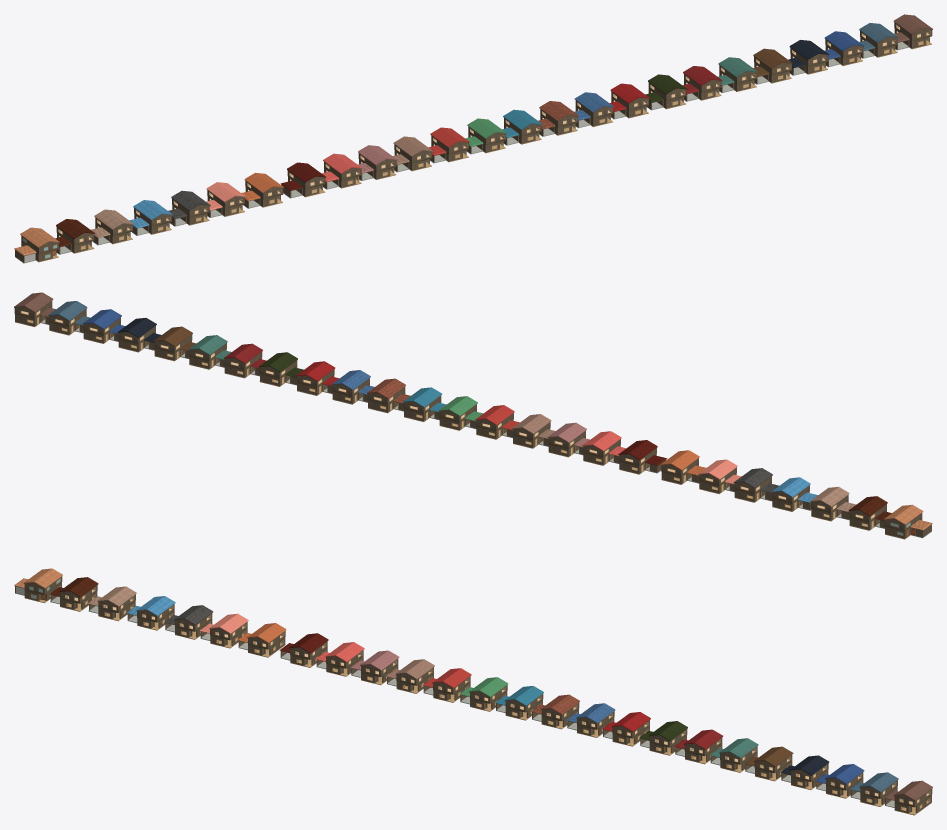
File: house_007_01_V3.fbx
3 renders of one model, top to bottom at view 1: azimuth 30°, elevation 25°; view 2: azimuth 150°, elevation 25°; view 3: azimuth 330°, elevation 25°, orthographic.
Visible parts, largest first — view 1: House_007_V3_8, House_007_V3_4, House_007_V3_3, House_007_V3_7, House_007_V3_5, House_007_V3_18, House_007_V3_13, House_007_V3_12, House_007_V3_15, House_007_V3_22, House_007_V3_9, House_007_V3_11 (+13 smaller); view 2: House_007_V3_8, House_007_V3_1, House_007_V3_4, House_007_V3_3, House_007_V3_7, House_007_V3_5, House_007_V3_18, House_007_V3_13, House_007_V3_12, House_007_V3_9, House_007_V3_22, House_007_V3_15 (+13 smaller); view 3: House_007_V3_7, House_007_V3_25, House_007_V3_2, House_007_V3_3, House_007_V3_6, House_007_V3_4, House_007_V3_12, House_007_V3_17, House_007_V3_21, House_007_V3_8, House_007_V3_11, House_007_V3_14 (+13 smaller).
Boxes of the visible parts, x1,y1,x2,y2 form: House_007_V3_8: [280, 162, 326, 198]; House_007_V3_4: [129, 200, 172, 235]; House_007_V3_3: [91, 209, 133, 245]; House_007_V3_7: [241, 172, 283, 208]; House_007_V3_5: [168, 190, 210, 226]; House_007_V3_18: [645, 74, 687, 110]; House_007_V3_13: [465, 118, 506, 154]; House_007_V3_12: [428, 127, 469, 163]; House_007_V3_15: [538, 101, 578, 136]; House_007_V3_22: [788, 40, 828, 75]; House_007_V3_9: [322, 153, 362, 189]; House_007_V3_11: [393, 136, 432, 172]; House_007_V3_8: [618, 440, 667, 474]; House_007_V3_1: [884, 504, 932, 539]; House_007_V3_4: [771, 477, 817, 511]; House_007_V3_3: [810, 486, 856, 521]; House_007_V3_7: [660, 450, 705, 484]; House_007_V3_5: [733, 468, 778, 502]; House_007_V3_18: [259, 352, 303, 386]; House_007_V3_13: [438, 396, 483, 430]; House_007_V3_12: [475, 405, 519, 439]; House_007_V3_9: [582, 431, 625, 465]; House_007_V3_22: [117, 318, 161, 352]; House_007_V3_15: [367, 378, 410, 413]; House_007_V3_7: [237, 623, 286, 657]; House_007_V3_25: [884, 780, 932, 815]; House_007_V3_2: [49, 577, 98, 611]; House_007_V3_3: [88, 586, 136, 621]; House_007_V3_6: [199, 613, 248, 648]; House_007_V3_4: [127, 596, 175, 630]; House_007_V3_12: [423, 668, 471, 702]; House_007_V3_17: [602, 712, 650, 746]; House_007_V3_21: [744, 746, 793, 781]; House_007_V3_8: [279, 633, 328, 667]; House_007_V3_11: [386, 659, 434, 693]; House_007_V3_14: [495, 686, 543, 720].
Size of the model in its own units: 17.78 by 0.3647 by 0.6189.
